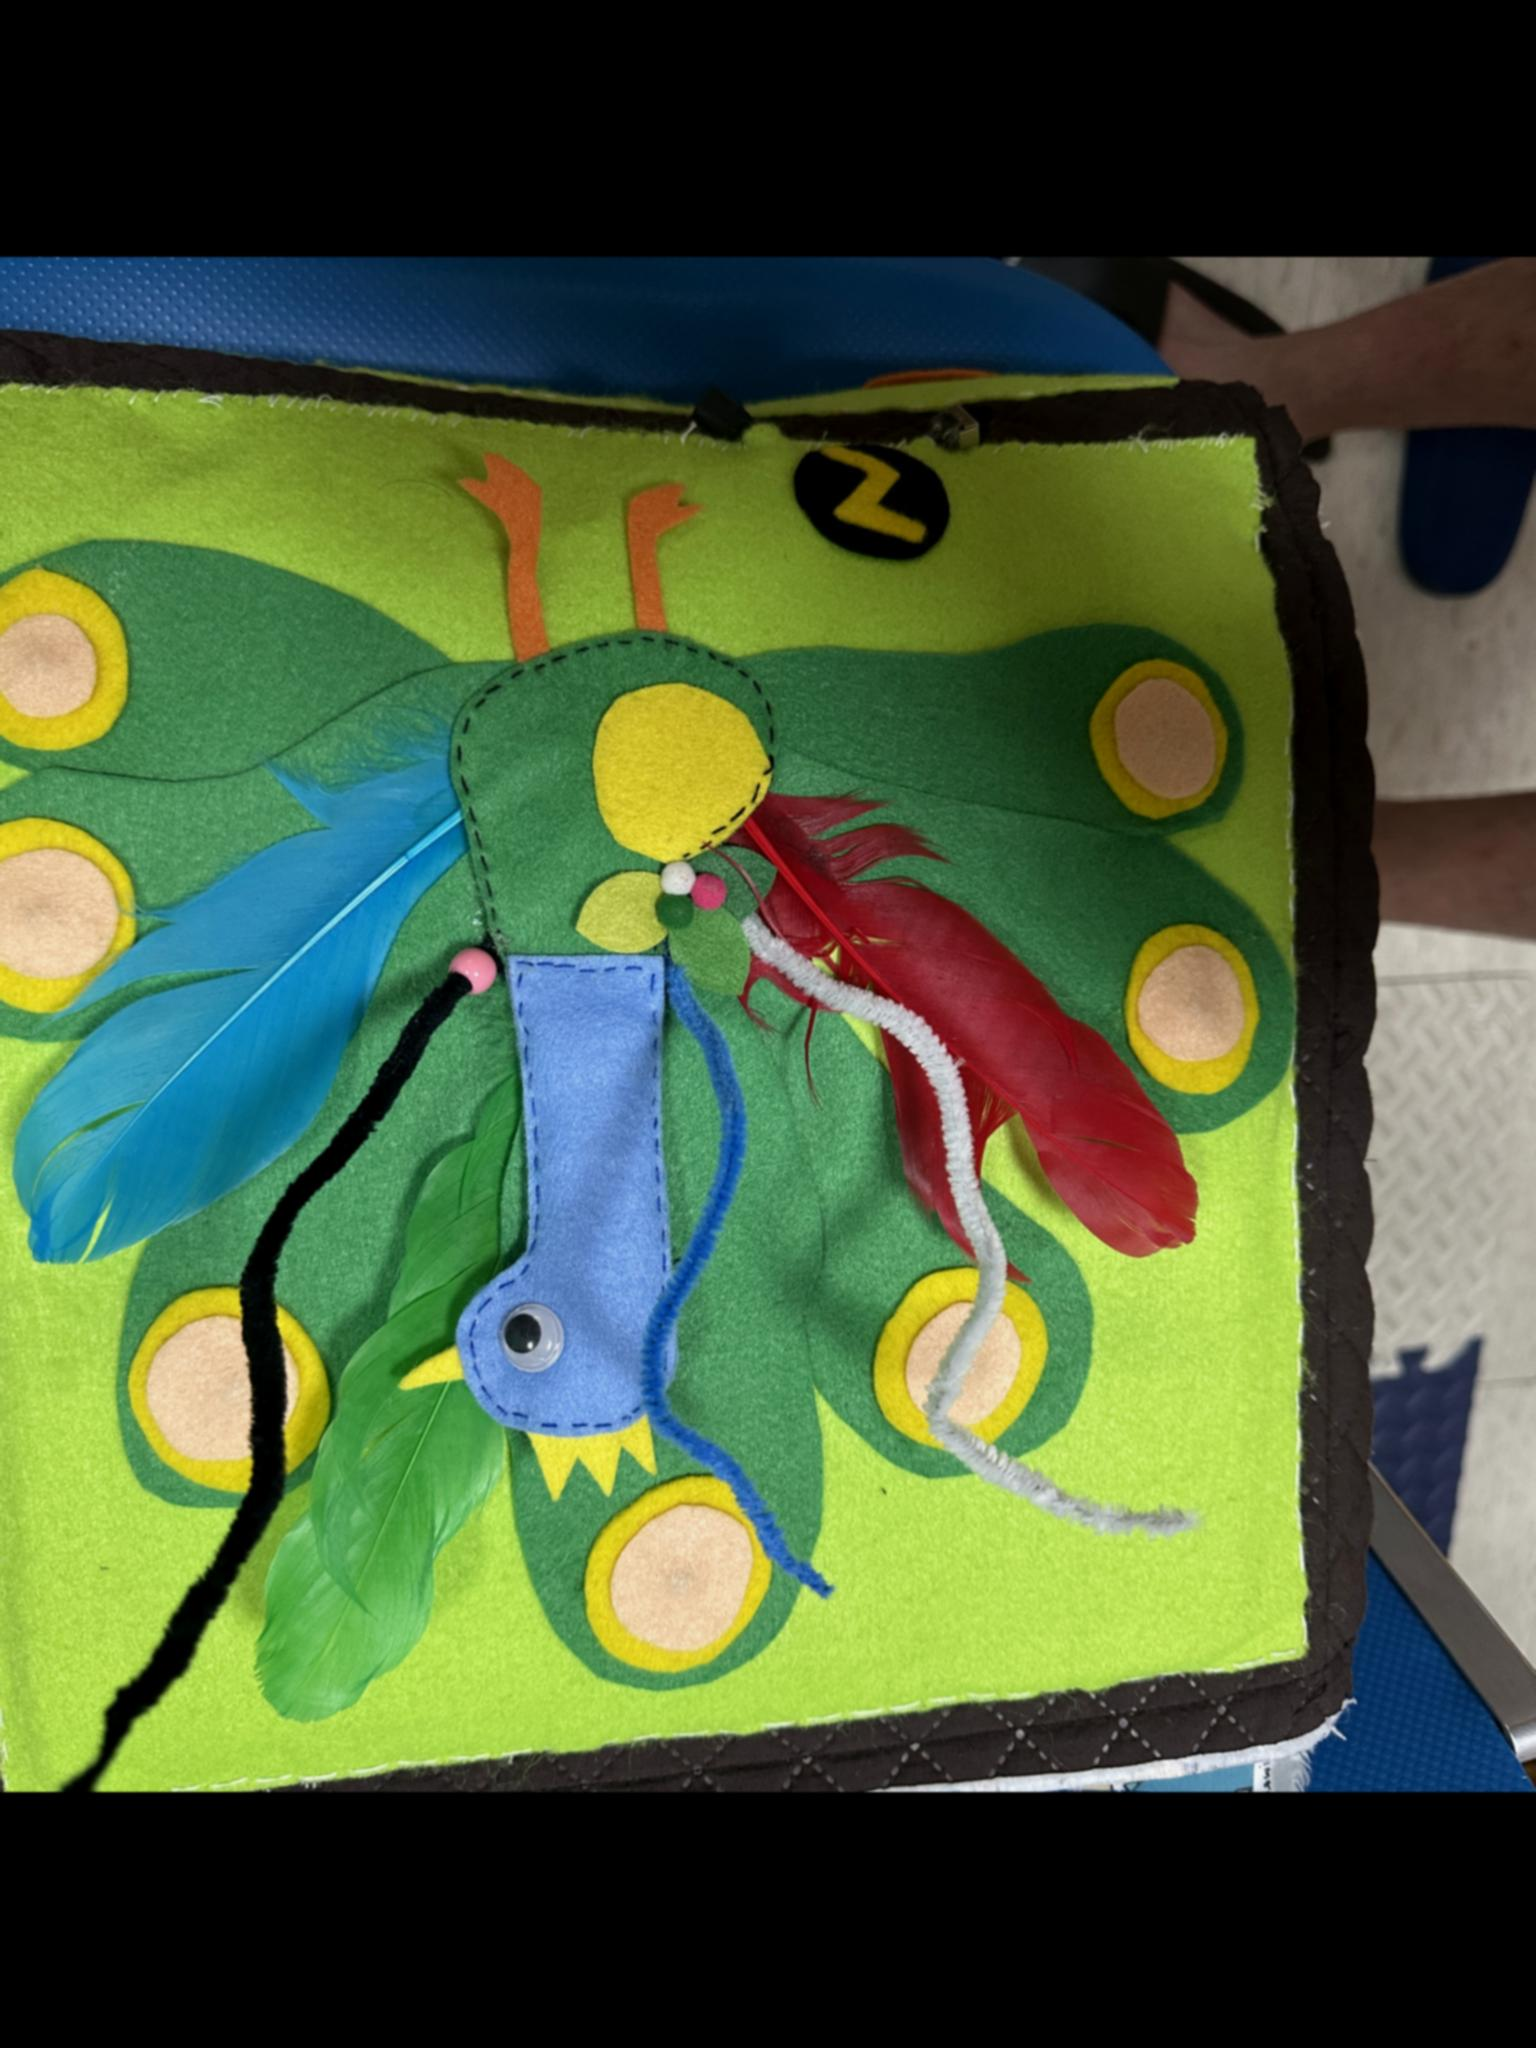bead: (426, 930, 510, 1009)
